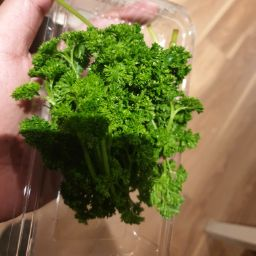Parsley: (22, 3, 195, 238), (93, 63, 203, 165), (21, 16, 195, 49)
